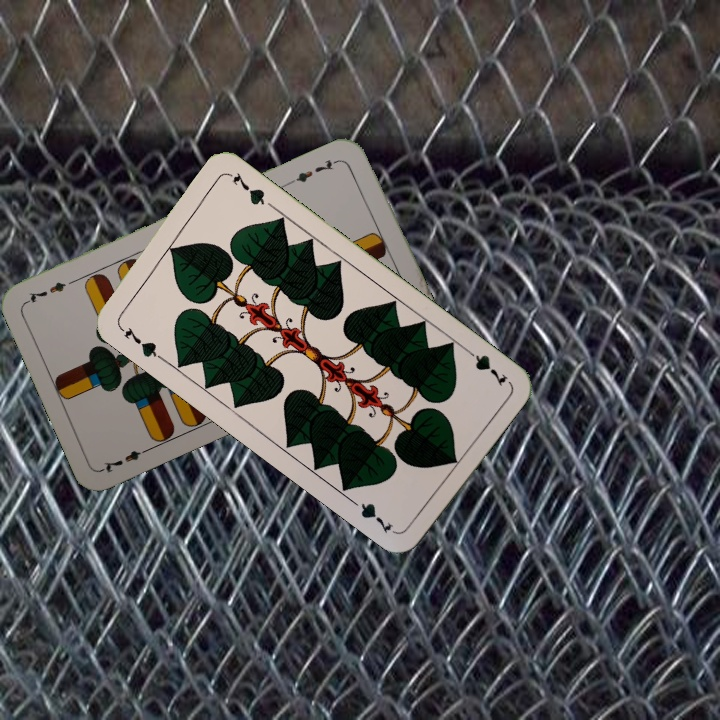E7: (98, 443, 154, 475), (288, 155, 344, 185)
G7: (460, 343, 510, 389), (114, 321, 165, 363)
